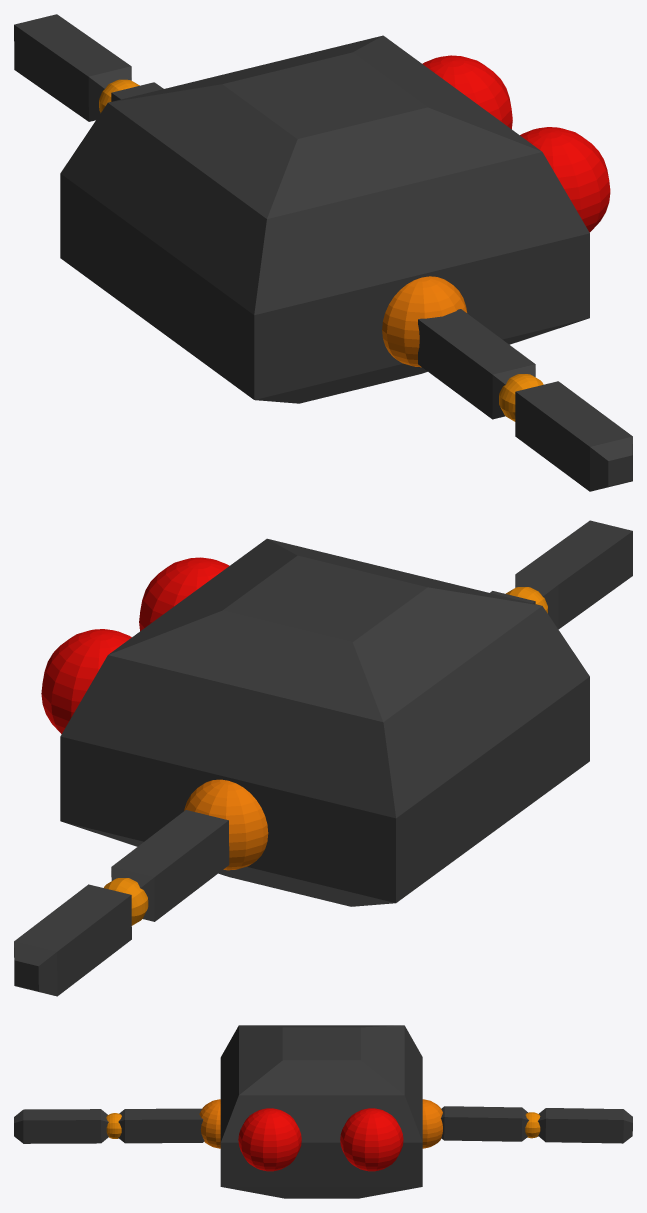
The model's file is enemy1.2.fbx.
3 renders of one model, top to bottom at view 1: azimuth 30°, elevation 25°; view 2: azimuth 150°, elevation 25°; view 3: azimuth 270°, elevation 25°, orthographic. The views are drawn at different scales.
Visible parts, largest first — view 1: Cube, right leg, left leg, right thigh, Sphere.001, torso.001, Sphere.002, right knee; view 2: Cube, left leg, left thigh, right leg, Sphere.002, torso.002, Sphere.001, left knee; view 3: Cube, left leg, right leg, Sphere.001, Sphere.002, left thigh, right thigh, torso.002, torso.001, right knee, left knee.
Boxes of the visible parts, box(x1,y1,x2,y2) form: Cube: box(60, 35, 589, 403); right leg: box(515, 381, 632, 491); left leg: box(14, 14, 131, 121); right thigh: box(418, 309, 535, 419); Sphere.001: box(520, 127, 610, 232); torso.001: box(382, 276, 467, 367); Sphere.002: box(422, 55, 512, 129); right knee: box(499, 374, 543, 421); Cube: box(60, 538, 589, 906); left leg: box(14, 884, 131, 996); left thigh: box(111, 810, 229, 921); right leg: box(515, 520, 632, 629); Sphere.002: box(41, 629, 131, 733); torso.002: box(184, 779, 268, 870); Sphere.001: box(139, 557, 229, 631); left knee: box(104, 878, 148, 925); Cube: box(220, 1025, 422, 1198); left leg: box(538, 1108, 632, 1143); right leg: box(14, 1109, 108, 1143); Sphere.001: box(238, 1108, 301, 1171); Sphere.002: box(340, 1108, 403, 1171); left thigh: box(441, 1106, 528, 1141); right thigh: box(118, 1108, 204, 1143); torso.002: box(422, 1099, 442, 1148); torso.001: box(199, 1099, 220, 1148); right knee: box(106, 1113, 121, 1138); left knee: box(525, 1112, 540, 1138).
Bounding box in the file's own units: 138 × 89.53 × 361.
